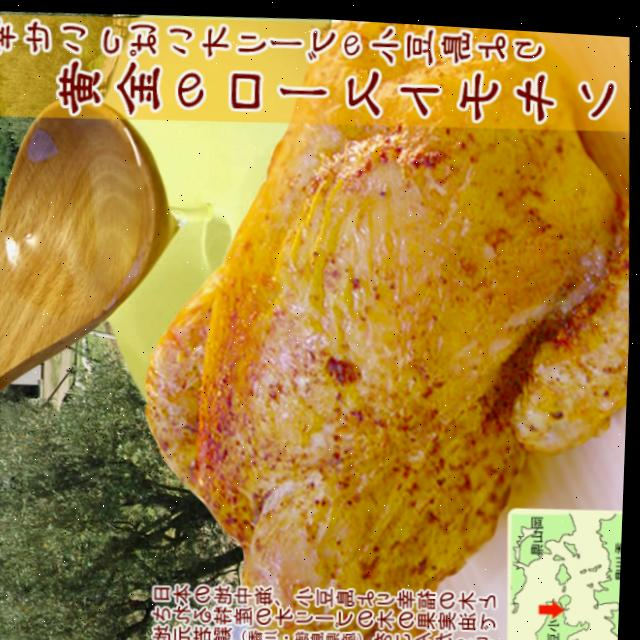鸡肉料理 含炸鸡: (121, 104, 637, 592)
